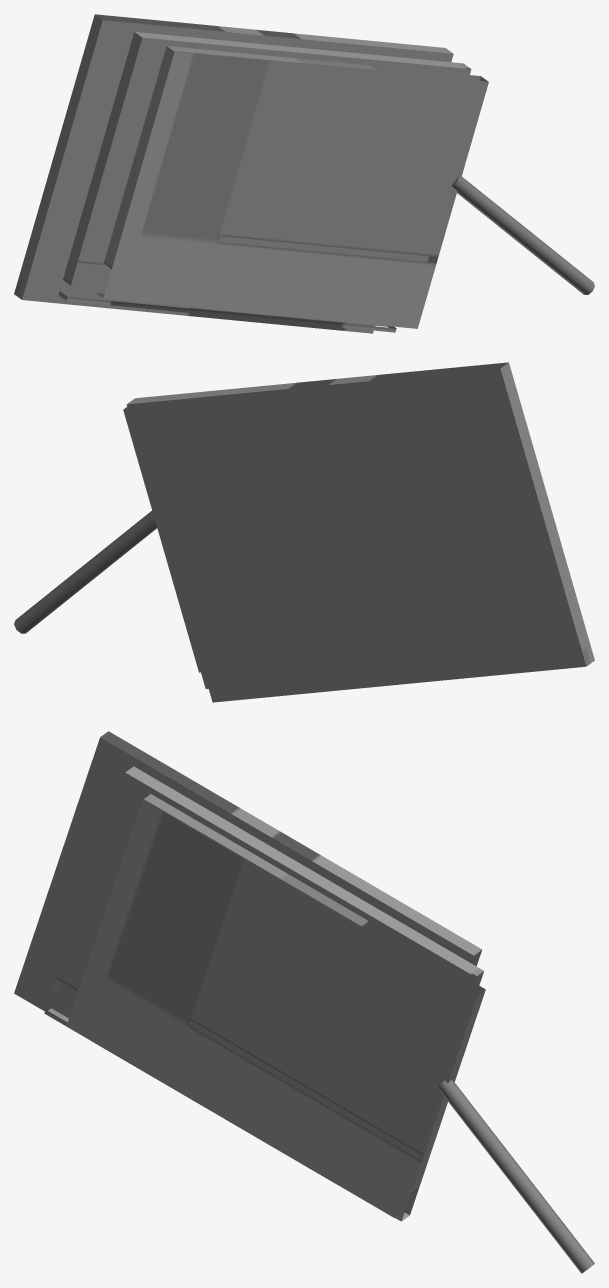
3 renders of one model, top to bottom at view 1: azimuth 30°, elevation 25°; view 2: azimuth 150°, elevation 25°; view 3: azimuth 330°, elevation 25°, orthographic. The views are drawn at different scales.
Size of the model in its own units: 0.8561 by 0.5566 by 0.0684.
